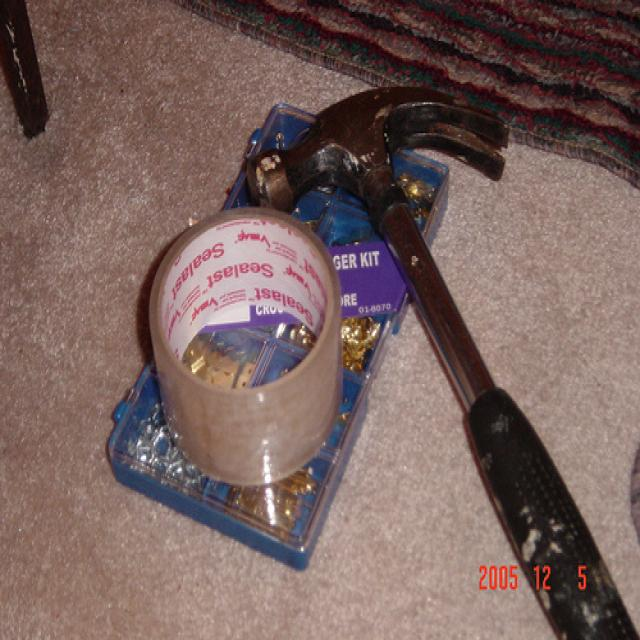hammer: (247, 45, 640, 537)
